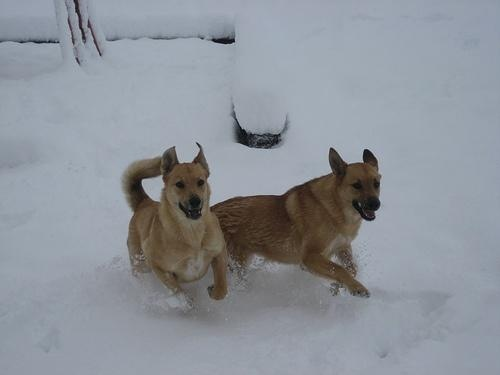dog: (212, 147, 382, 300), (121, 143, 230, 306)
